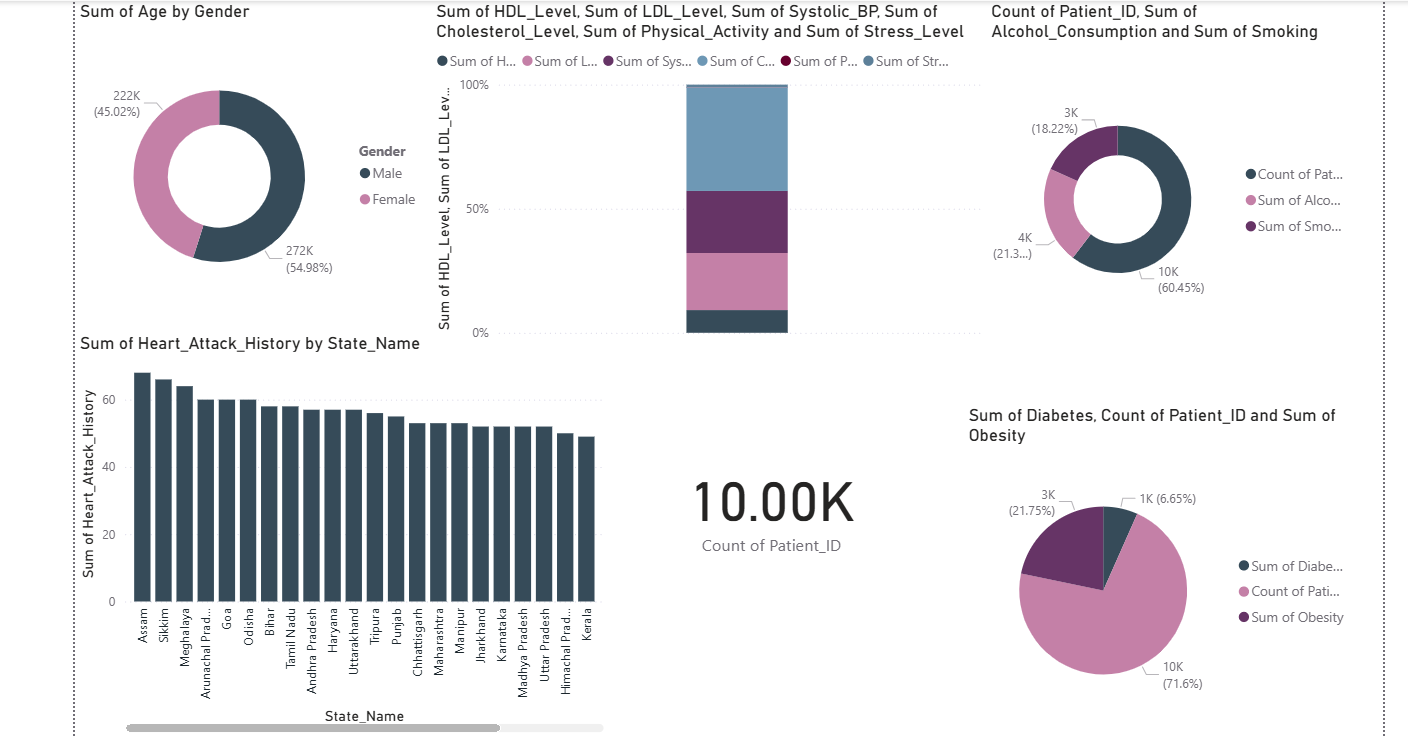

The dashboard page shown, as its layout file describes it:
{"tool":"powerbi","page":{"name":"Page 1","canvas":[1280,720],"ordinal":0},"visuals":[{"type":"donutChart","fields":{"Category":["heart_attack_prediction_india.Gender"],"Y":["Sum(heart_attack_prediction_india.Age)"]},"box":[0,0,348.6,324.1],"z":0},{"type":"clusteredColumnChart","fields":{"Category":["heart_attack_prediction_india.State_Name"],"Y":["Sum(heart_attack_prediction_india.Heart_Attack_History)"]},"box":[0,324.1,522.2,396.4],"z":1000},{"type":"pieChart","fields":{"Y":["Sum(heart_attack_prediction_india.Diabetes)","CountNonNull(heart_attack_prediction_india.Patient_ID)","Sum(heart_attack_prediction_india.Obesity)"]},"box":[869.4,394.9,386.3,325.5],"z":2000},{"type":"hundredPercentStackedColumnChart","fields":{"Y":["Sum(heart_attack_prediction_india.HDL_Level)","Sum(heart_attack_prediction_india.LDL_Level)","Sum(heart_attack_prediction_india.Systolic_BP)","Sum(heart_attack_prediction_india.Cholesterol_Level)","Sum(heart_attack_prediction_india.Physical_Activity)","Sum(heart_attack_prediction_india.Stress_Level)"]},"box":[348.6,0,542.5,338.5],"z":3000},{"type":"donutChart","fields":{"Y":["CountNonNull(heart_attack_prediction_india.Patient_ID)","Sum(heart_attack_prediction_india.Alcohol_Consumption)","Sum(heart_attack_prediction_india.Smoking)"]},"box":[891.1,0,364.6,350.1],"z":4000},{"type":"card","fields":{"Values":["CountNonNull(heart_attack_prediction_india.Patient_ID)"]},"box":[432.6,434,458.6,118.6],"z":5000}]}

Visuals, with their boxes on the page's 1280x720 design canvas (x1, y1, x2, y2). These are canvas units, not pixel positions in the 1408x737 screenshot, which may show the page scaled, cropped or inside an application window:
donutChart - heart_attack_prediction_india.Gender x Sum(heart_attack_prediction_india.Age): x1=0, y1=0, x2=349, y2=324
clusteredColumnChart - heart_attack_prediction_india.State_Name x Sum(heart_attack_prediction_india.Heart_Attack_History): x1=0, y1=324, x2=522, y2=720
pieChart - Sum(heart_attack_prediction_india.Diabetes) x CountNonNull(heart_attack_prediction_india.Patient_ID): x1=869, y1=395, x2=1256, y2=720
hundredPercentStackedColumnChart - Sum(heart_attack_prediction_india.HDL_Level) x Sum(heart_attack_prediction_india.LDL_Level): x1=349, y1=0, x2=891, y2=338
donutChart - CountNonNull(heart_attack_prediction_india.Patient_ID) x Sum(heart_attack_prediction_india.Alcohol_Consumption): x1=891, y1=0, x2=1256, y2=350
card - CountNonNull(heart_attack_prediction_india.Patient_ID): x1=433, y1=434, x2=891, y2=553
